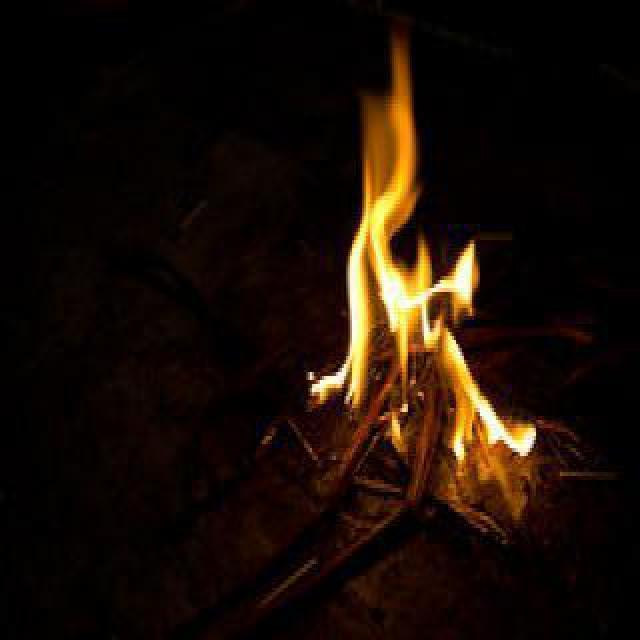Fire: (306, 16, 532, 464)
